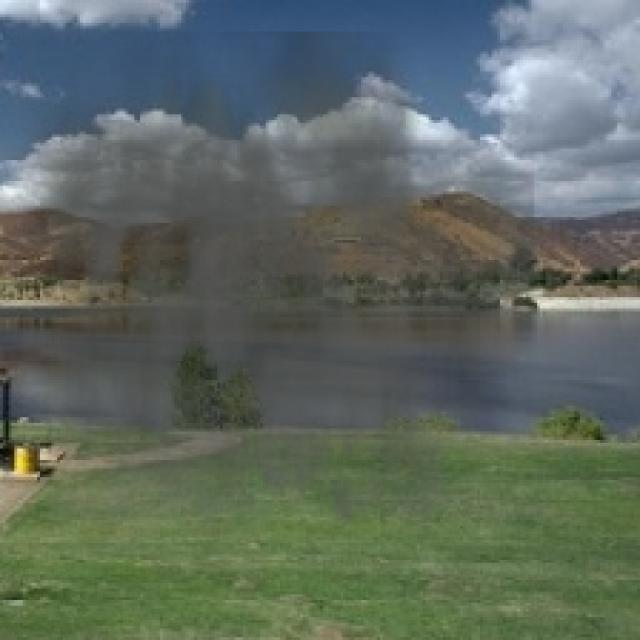smoke: (0, 31, 535, 595)
